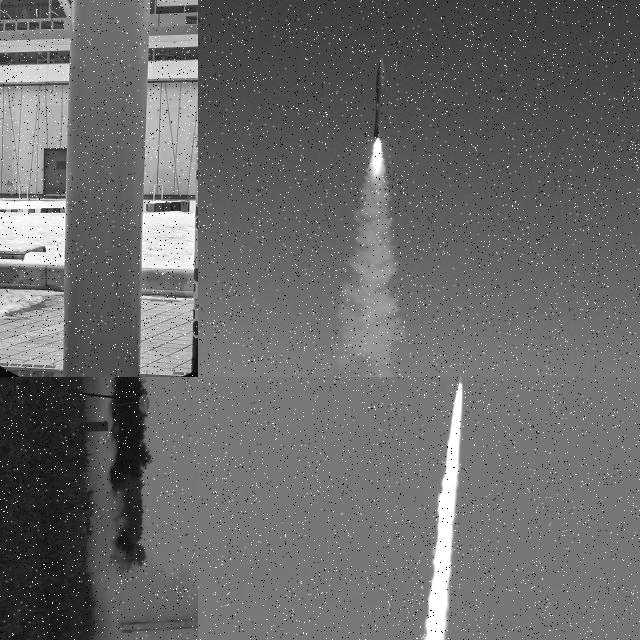Rocket: (358, 56, 398, 138), (458, 377, 463, 384)
